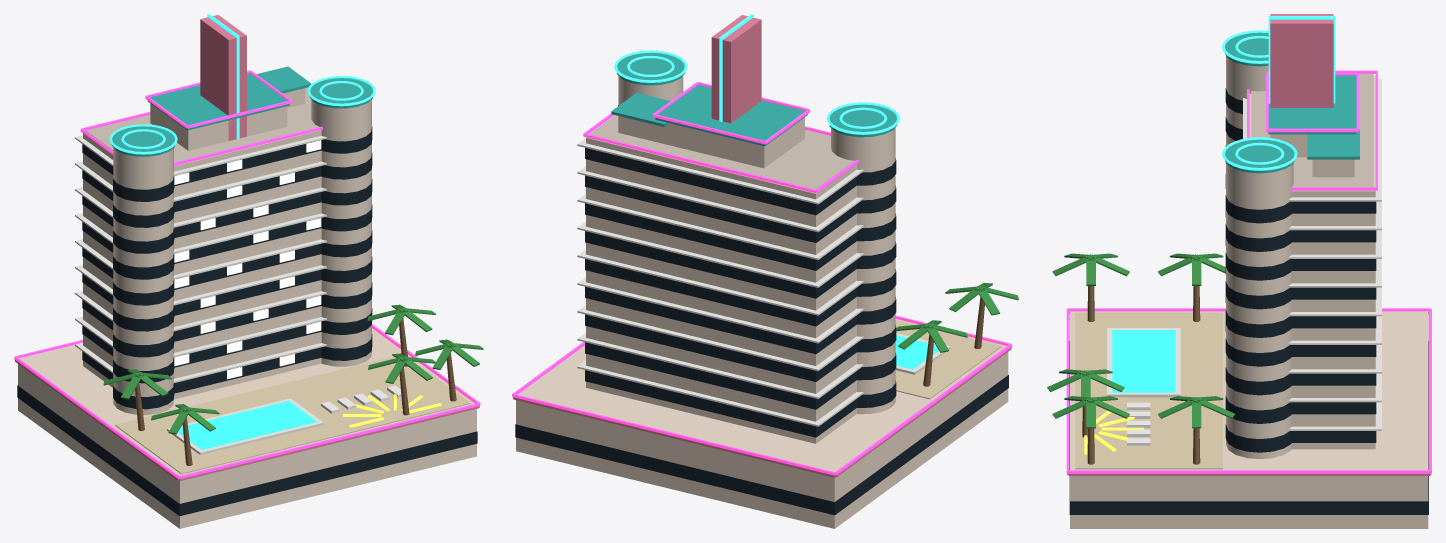
Rendered from miami-hotel.glb.
The picture shows the model from 3 angles, left to right: view 1: azimuth 30°, elevation 25°; view 2: azimuth 150°, elevation 25°; view 3: azimuth 270°, elevation 25°; orthographic projection. The views are drawn at different scales.
Visible parts, largest first — view 1: Mesh_Podium, Mesh_Tower, Mesh_CornerBand (×17), Mesh_Terrace, Mesh_CornerTowerW, Mesh_CornerTowerE, Mesh_PodiumBand, Mesh_Fin, Mesh_Pool, Mesh_CrownTrim, Mesh_CornerCap (×2), Mesh_TowerRoof (+25 smaller); view 2: Mesh_Podium, Mesh_Tower, Mesh_PodiumBand, Mesh_CornerTowerW, Mesh_TowerRoof, Mesh_Fin, Mesh_CrownTrim, Mesh_Crown, Mesh_Windows4, Mesh_Windows0, Mesh_Windows3, Mesh_Windows5 (+24 smaller); view 3: Mesh_Podium, Mesh_Terrace, Mesh_CornerTowerE, Mesh_Tower, Mesh_CornerBand (×9), Mesh_Fin, Mesh_PodiumBand, Mesh_Pool, Mesh_TowerRoof, Mesh_CrownTrim, Mesh_CornerCap (×2), Mesh_CornerTowerW (+29 smaller).
Part boxes in pixels (x1,y1,x2,y2): Mesh_Podium: (18, 328, 476, 528); Mesh_Tower: (83, 130, 321, 399); Mesh_CornerBand (×17): (113, 127, 372, 409); Mesh_Terrace: (115, 356, 470, 474); Mesh_CornerTowerW: (113, 148, 173, 414); Mesh_CornerTowerE: (311, 99, 371, 366); Mesh_PodiumBand: (17, 385, 477, 516); Mesh_Fin: (200, 15, 246, 140); Mesh_Pool: (178, 401, 317, 449); Mesh_CrownTrim: (147, 73, 289, 130); Mesh_CornerCap (×2): (111, 78, 372, 156); Mesh_TowerRoof: (85, 87, 319, 162); Mesh_Podium: (516, 319, 1008, 528); Mesh_Tower: (586, 137, 856, 443); Mesh_PodiumBand: (515, 374, 1008, 515); Mesh_CornerTowerW: (831, 128, 895, 414); Mesh_TowerRoof: (589, 115, 854, 189); Mesh_Fin: (711, 15, 761, 123); Mesh_CrownTrim: (655, 84, 807, 146); Mesh_Crown: (658, 117, 804, 168); Mesh_Windows4: (585, 259, 856, 326); Mesh_Windows0: (585, 370, 856, 437); Mesh_Windows3: (585, 287, 856, 354); Mesh_Windows5: (585, 231, 856, 298); Mesh_Podium: (1070, 311, 1428, 528); Mesh_Terrace: (1075, 312, 1222, 469); Mesh_CornerTowerE: (1226, 163, 1293, 459); Mesh_Tower: (1249, 75, 1375, 449); Mesh_CornerBand (×9): (1225, 195, 1291, 452); Mesh_Fin: (1270, 14, 1333, 107); Mesh_PodiumBand: (1069, 341, 1428, 514); Mesh_Pool: (1112, 330, 1175, 392); Mesh_TowerRoof: (1251, 73, 1373, 187); Mesh_CrownTrim: (1268, 75, 1356, 134); Mesh_CornerCap (×2): (1225, 32, 1294, 173); Mesh_CornerTowerW: (1226, 56, 1268, 145).
Bounding box in the file's own units: 39 × 45.25 × 36.51.
